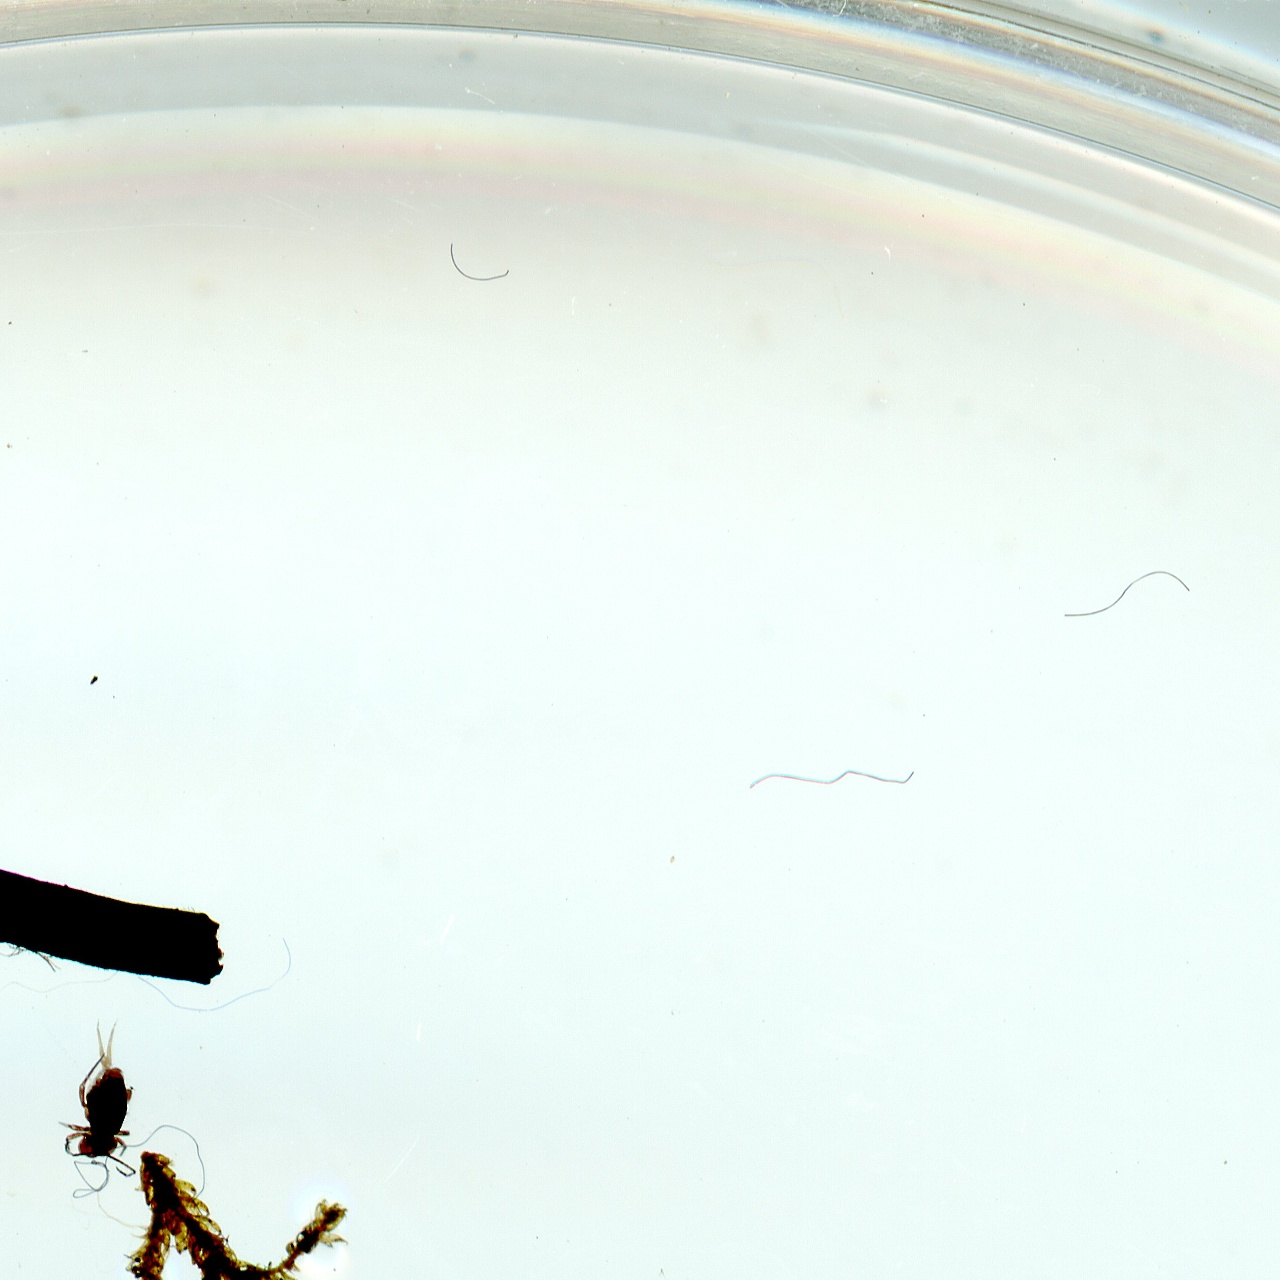arthropod: (61, 1017, 145, 1175)
